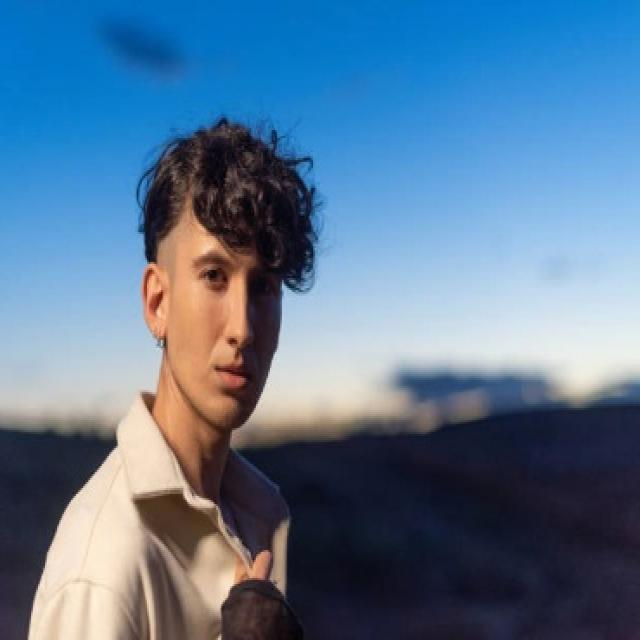adult: (22, 105, 343, 640)
